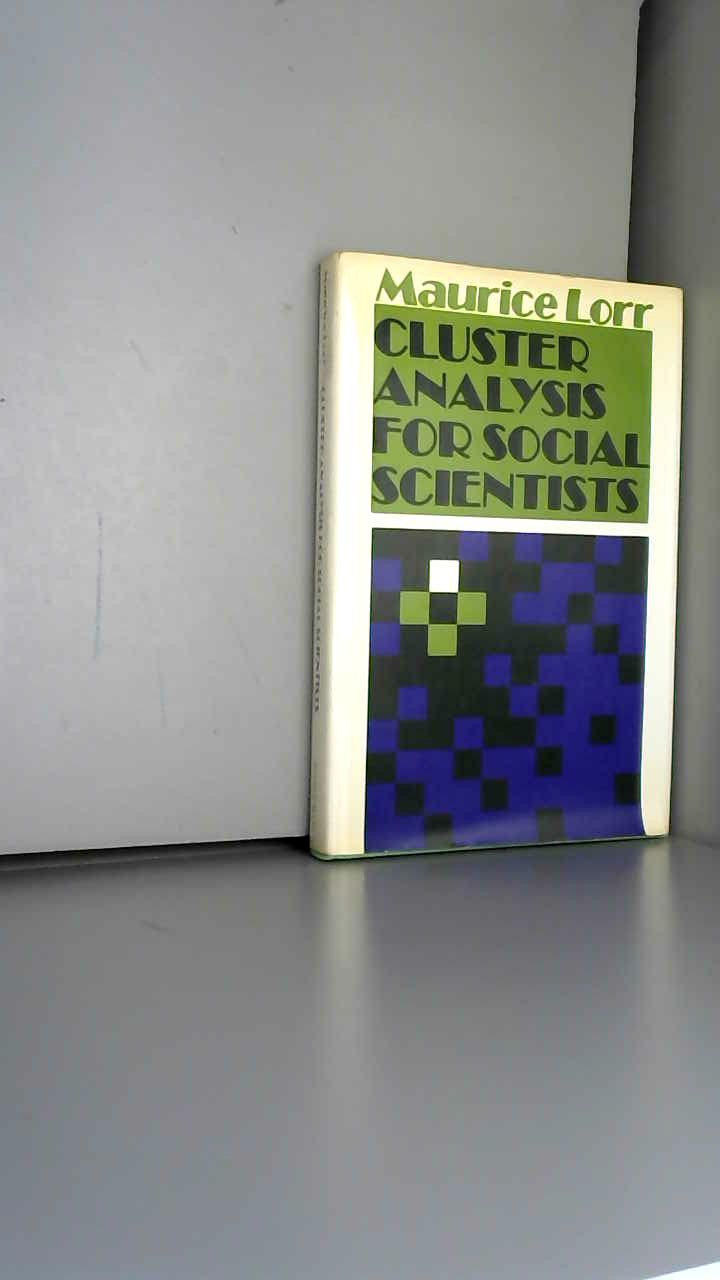book: (270, 230, 715, 894)
